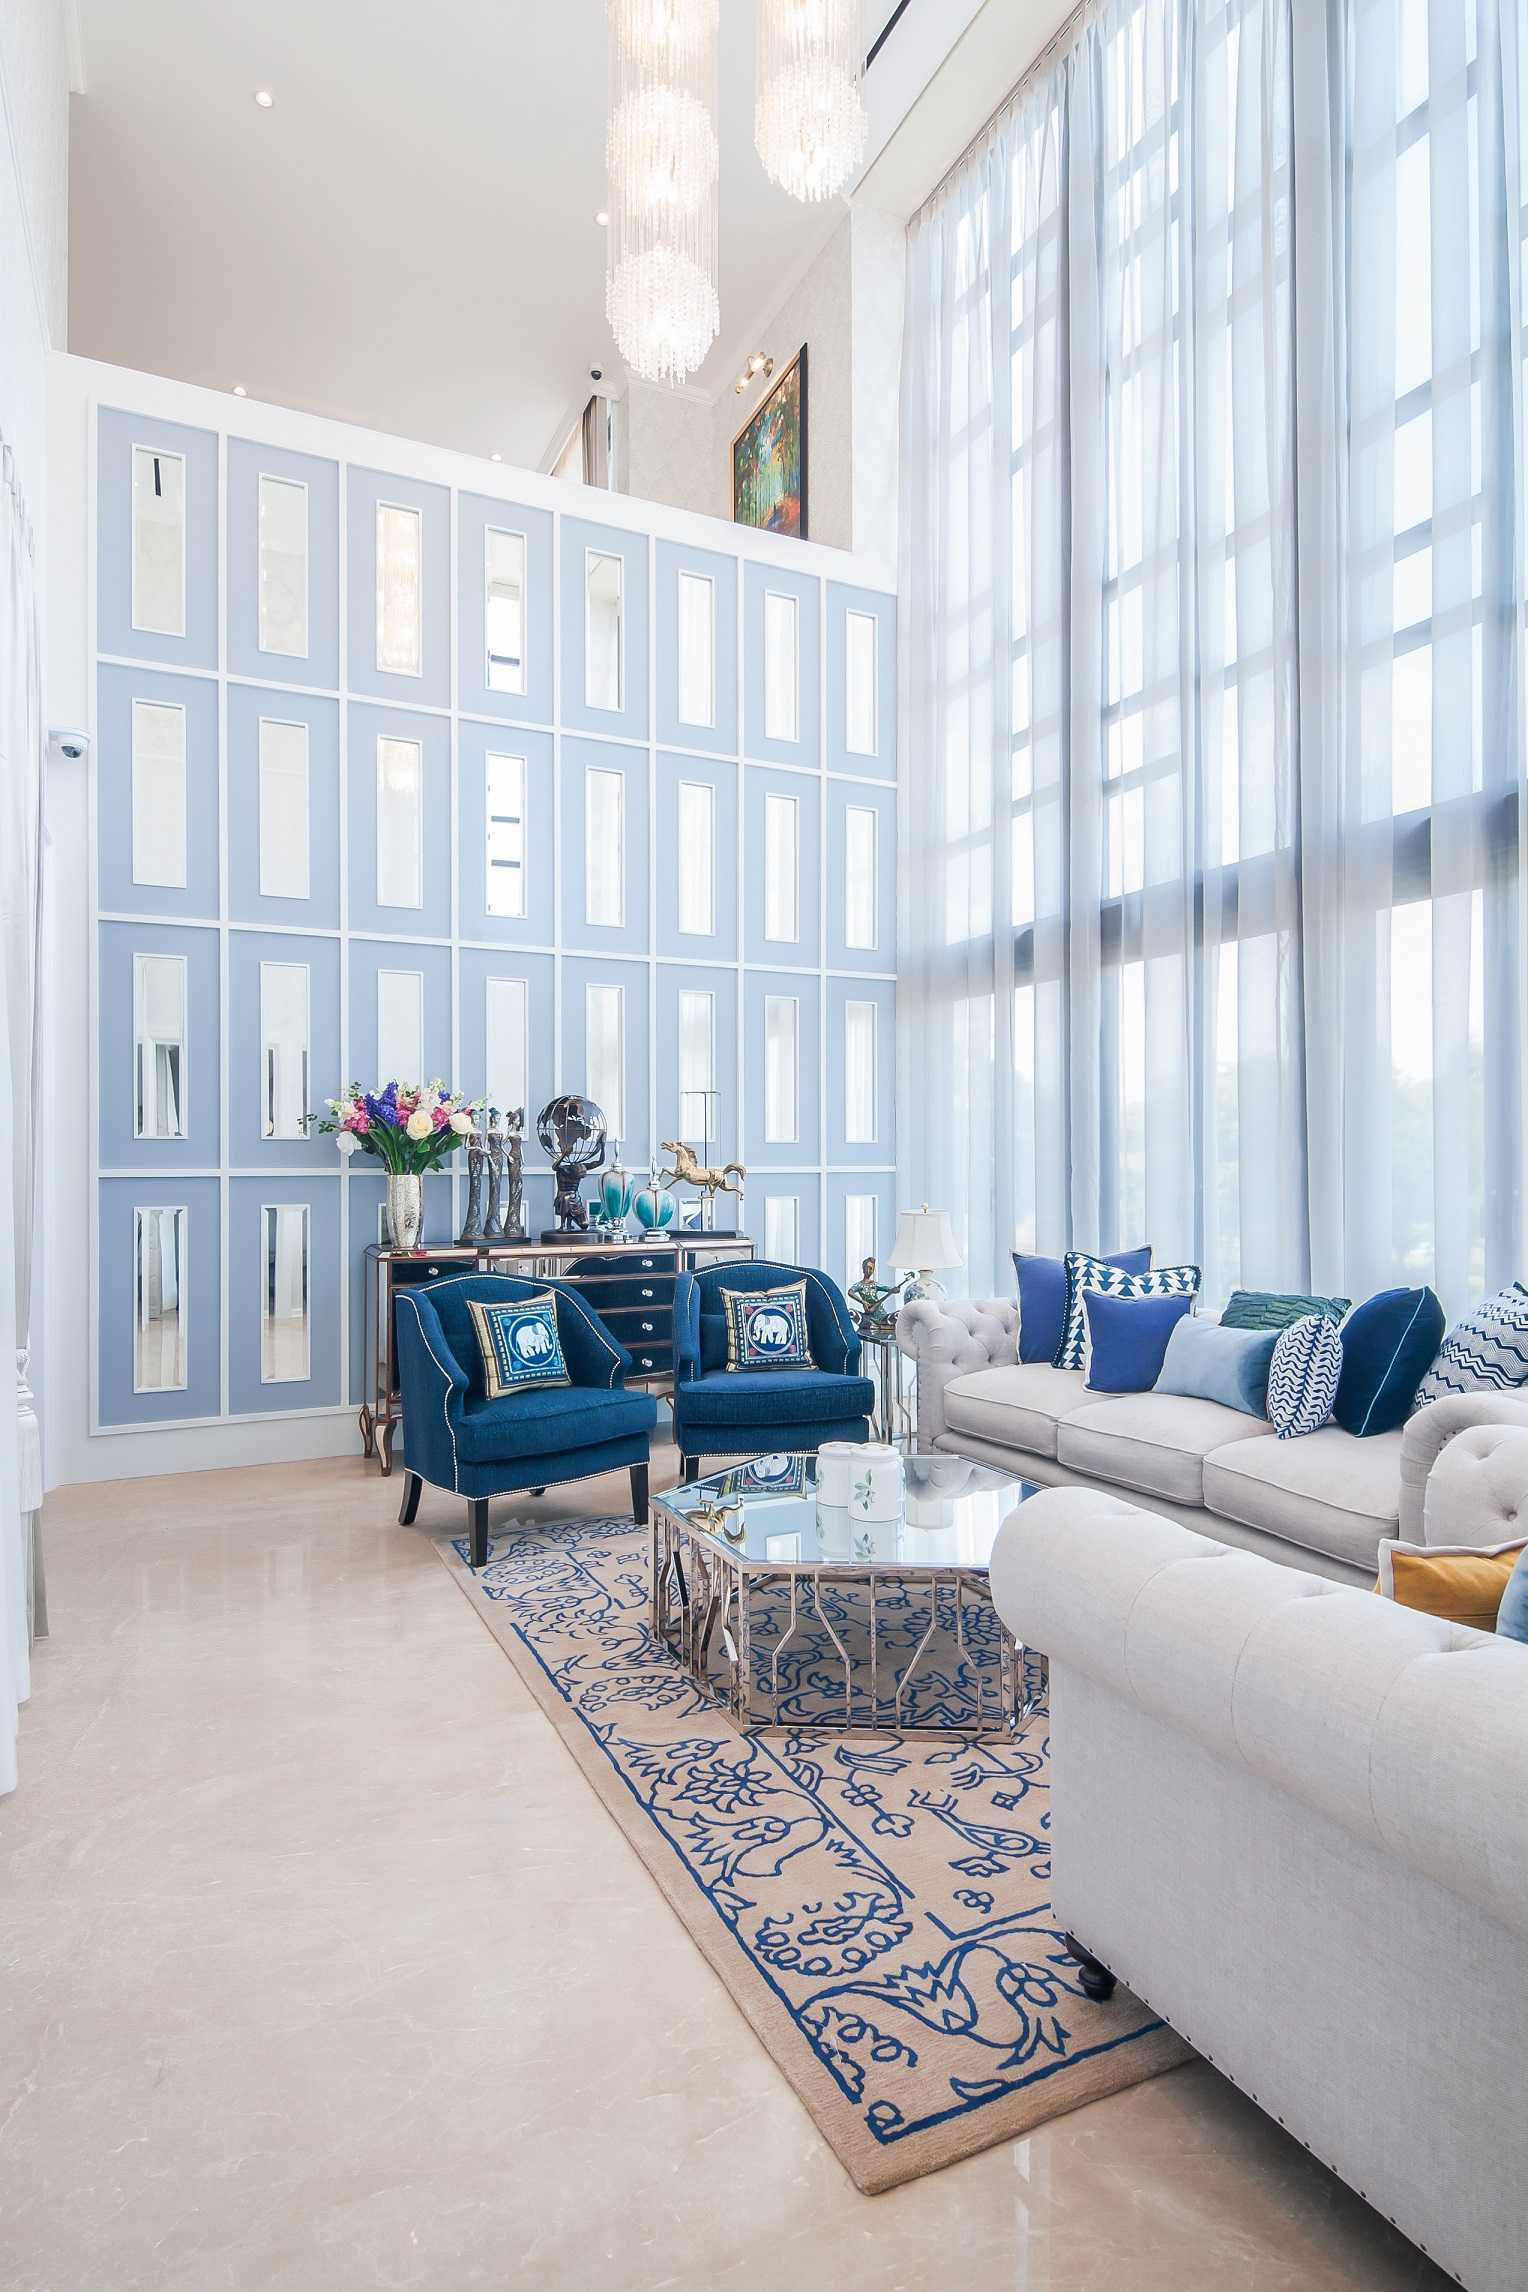kursi: (382, 1262, 660, 1552)
meja: (650, 1443, 1035, 1750)
sova: (906, 1264, 1526, 1567)
tanaman: (326, 1085, 462, 1247)
